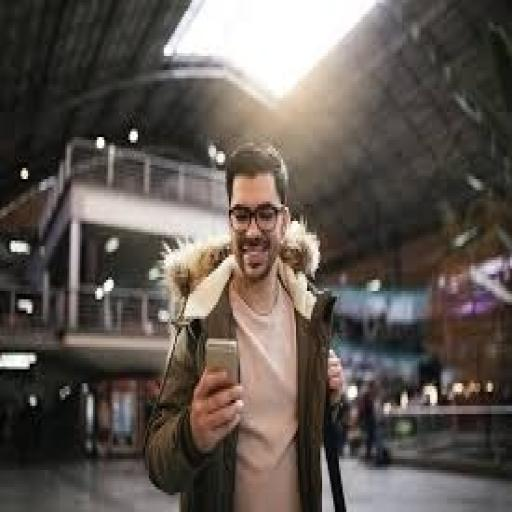texting: (142, 137, 350, 509)
